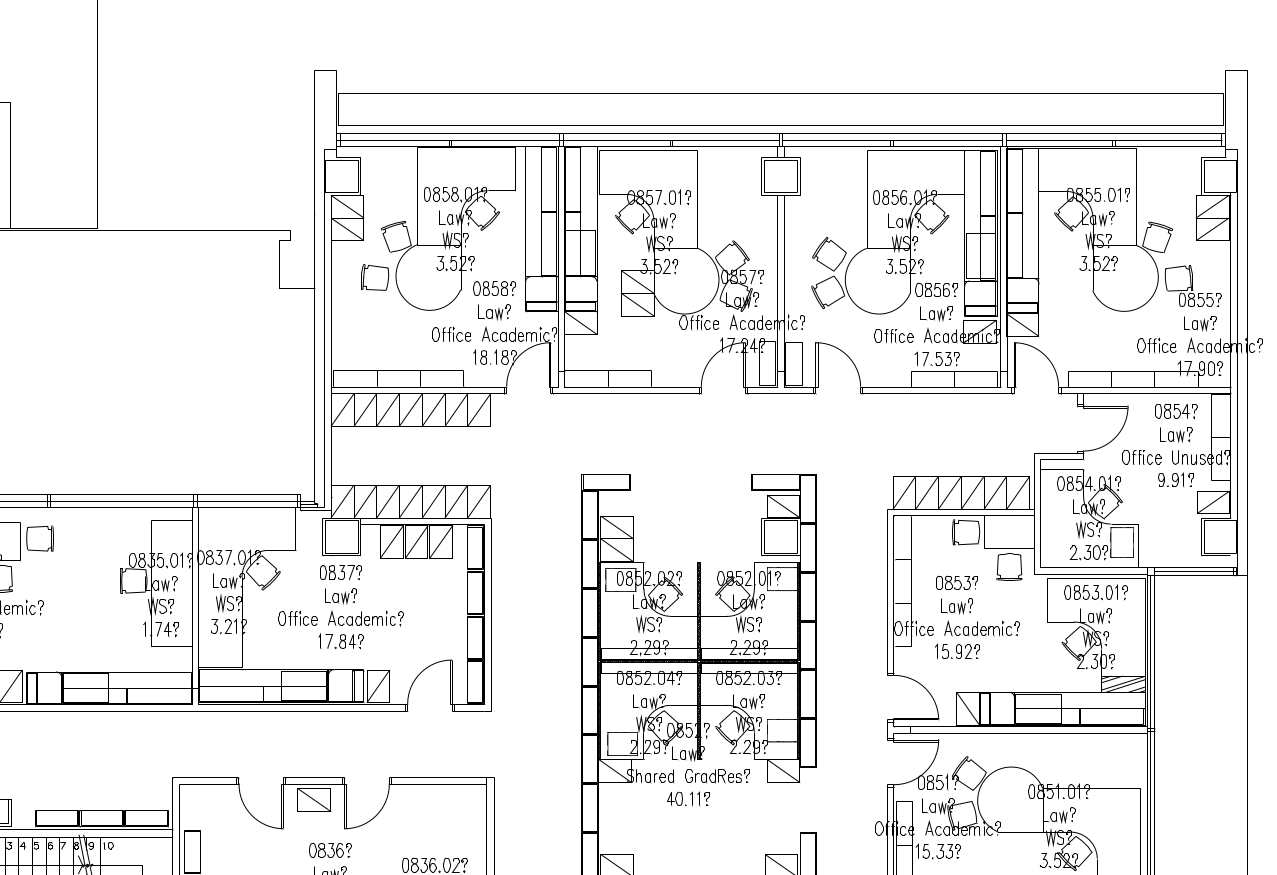door: (1072, 398, 1132, 457), (885, 665, 945, 724), (885, 734, 945, 793), (340, 778, 400, 837), (229, 776, 289, 835), (399, 655, 459, 714), (503, 338, 553, 395), (698, 338, 748, 395), (813, 339, 863, 396), (1011, 339, 1061, 396)
